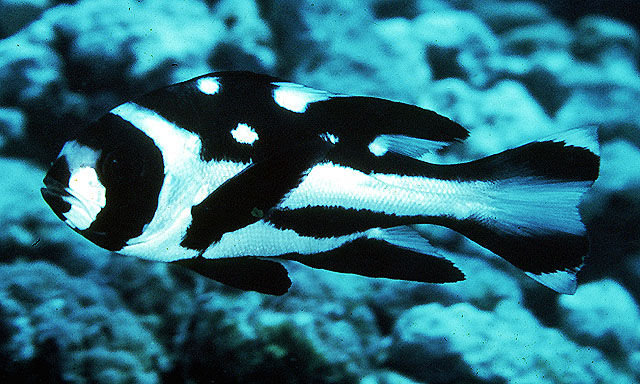fish: (41, 70, 602, 296)
